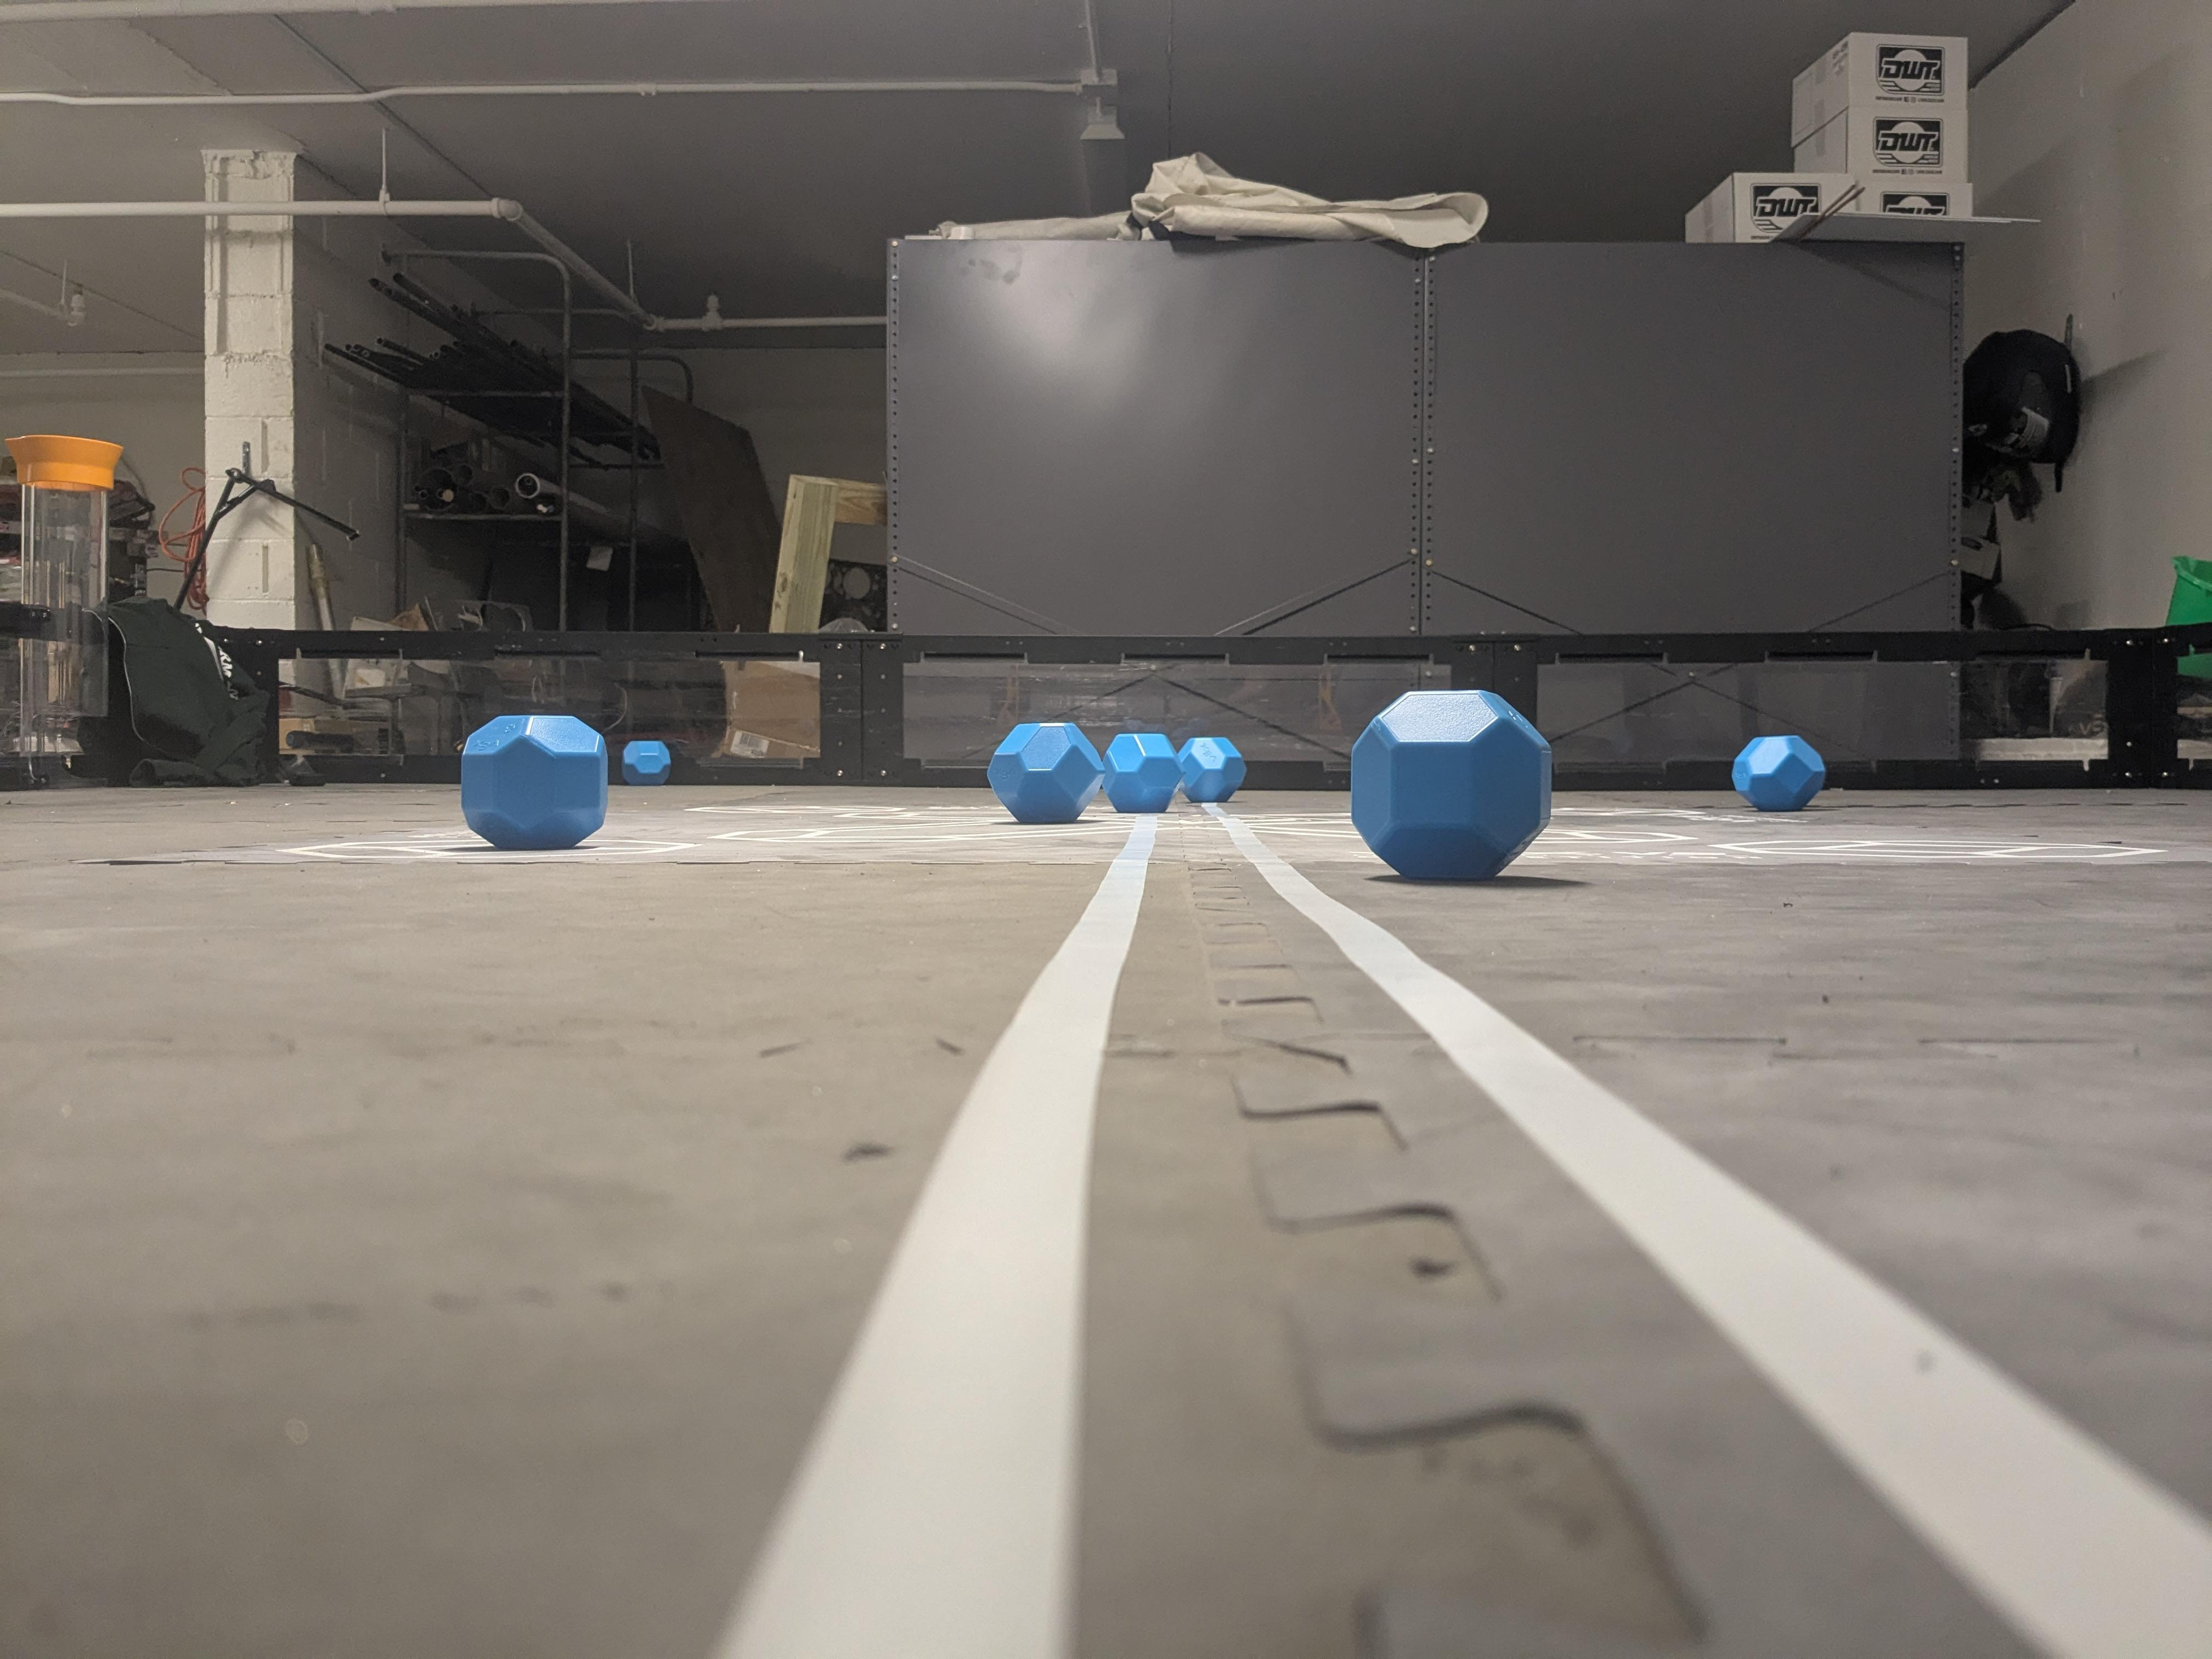Vex-Pieces-BLUE: (1350, 694, 1548, 878), (460, 716, 608, 847), (988, 721, 1104, 824), (1104, 732, 1181, 812), (1731, 739, 1824, 805), (1177, 737, 1245, 803), (622, 739, 672, 786)
